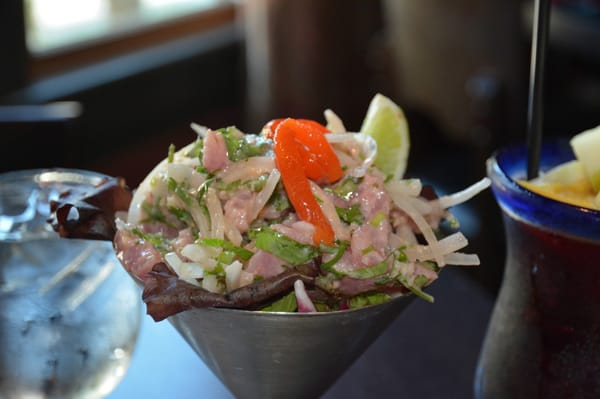pizza: (473, 131, 599, 395)
sushi: (165, 293, 417, 396)
